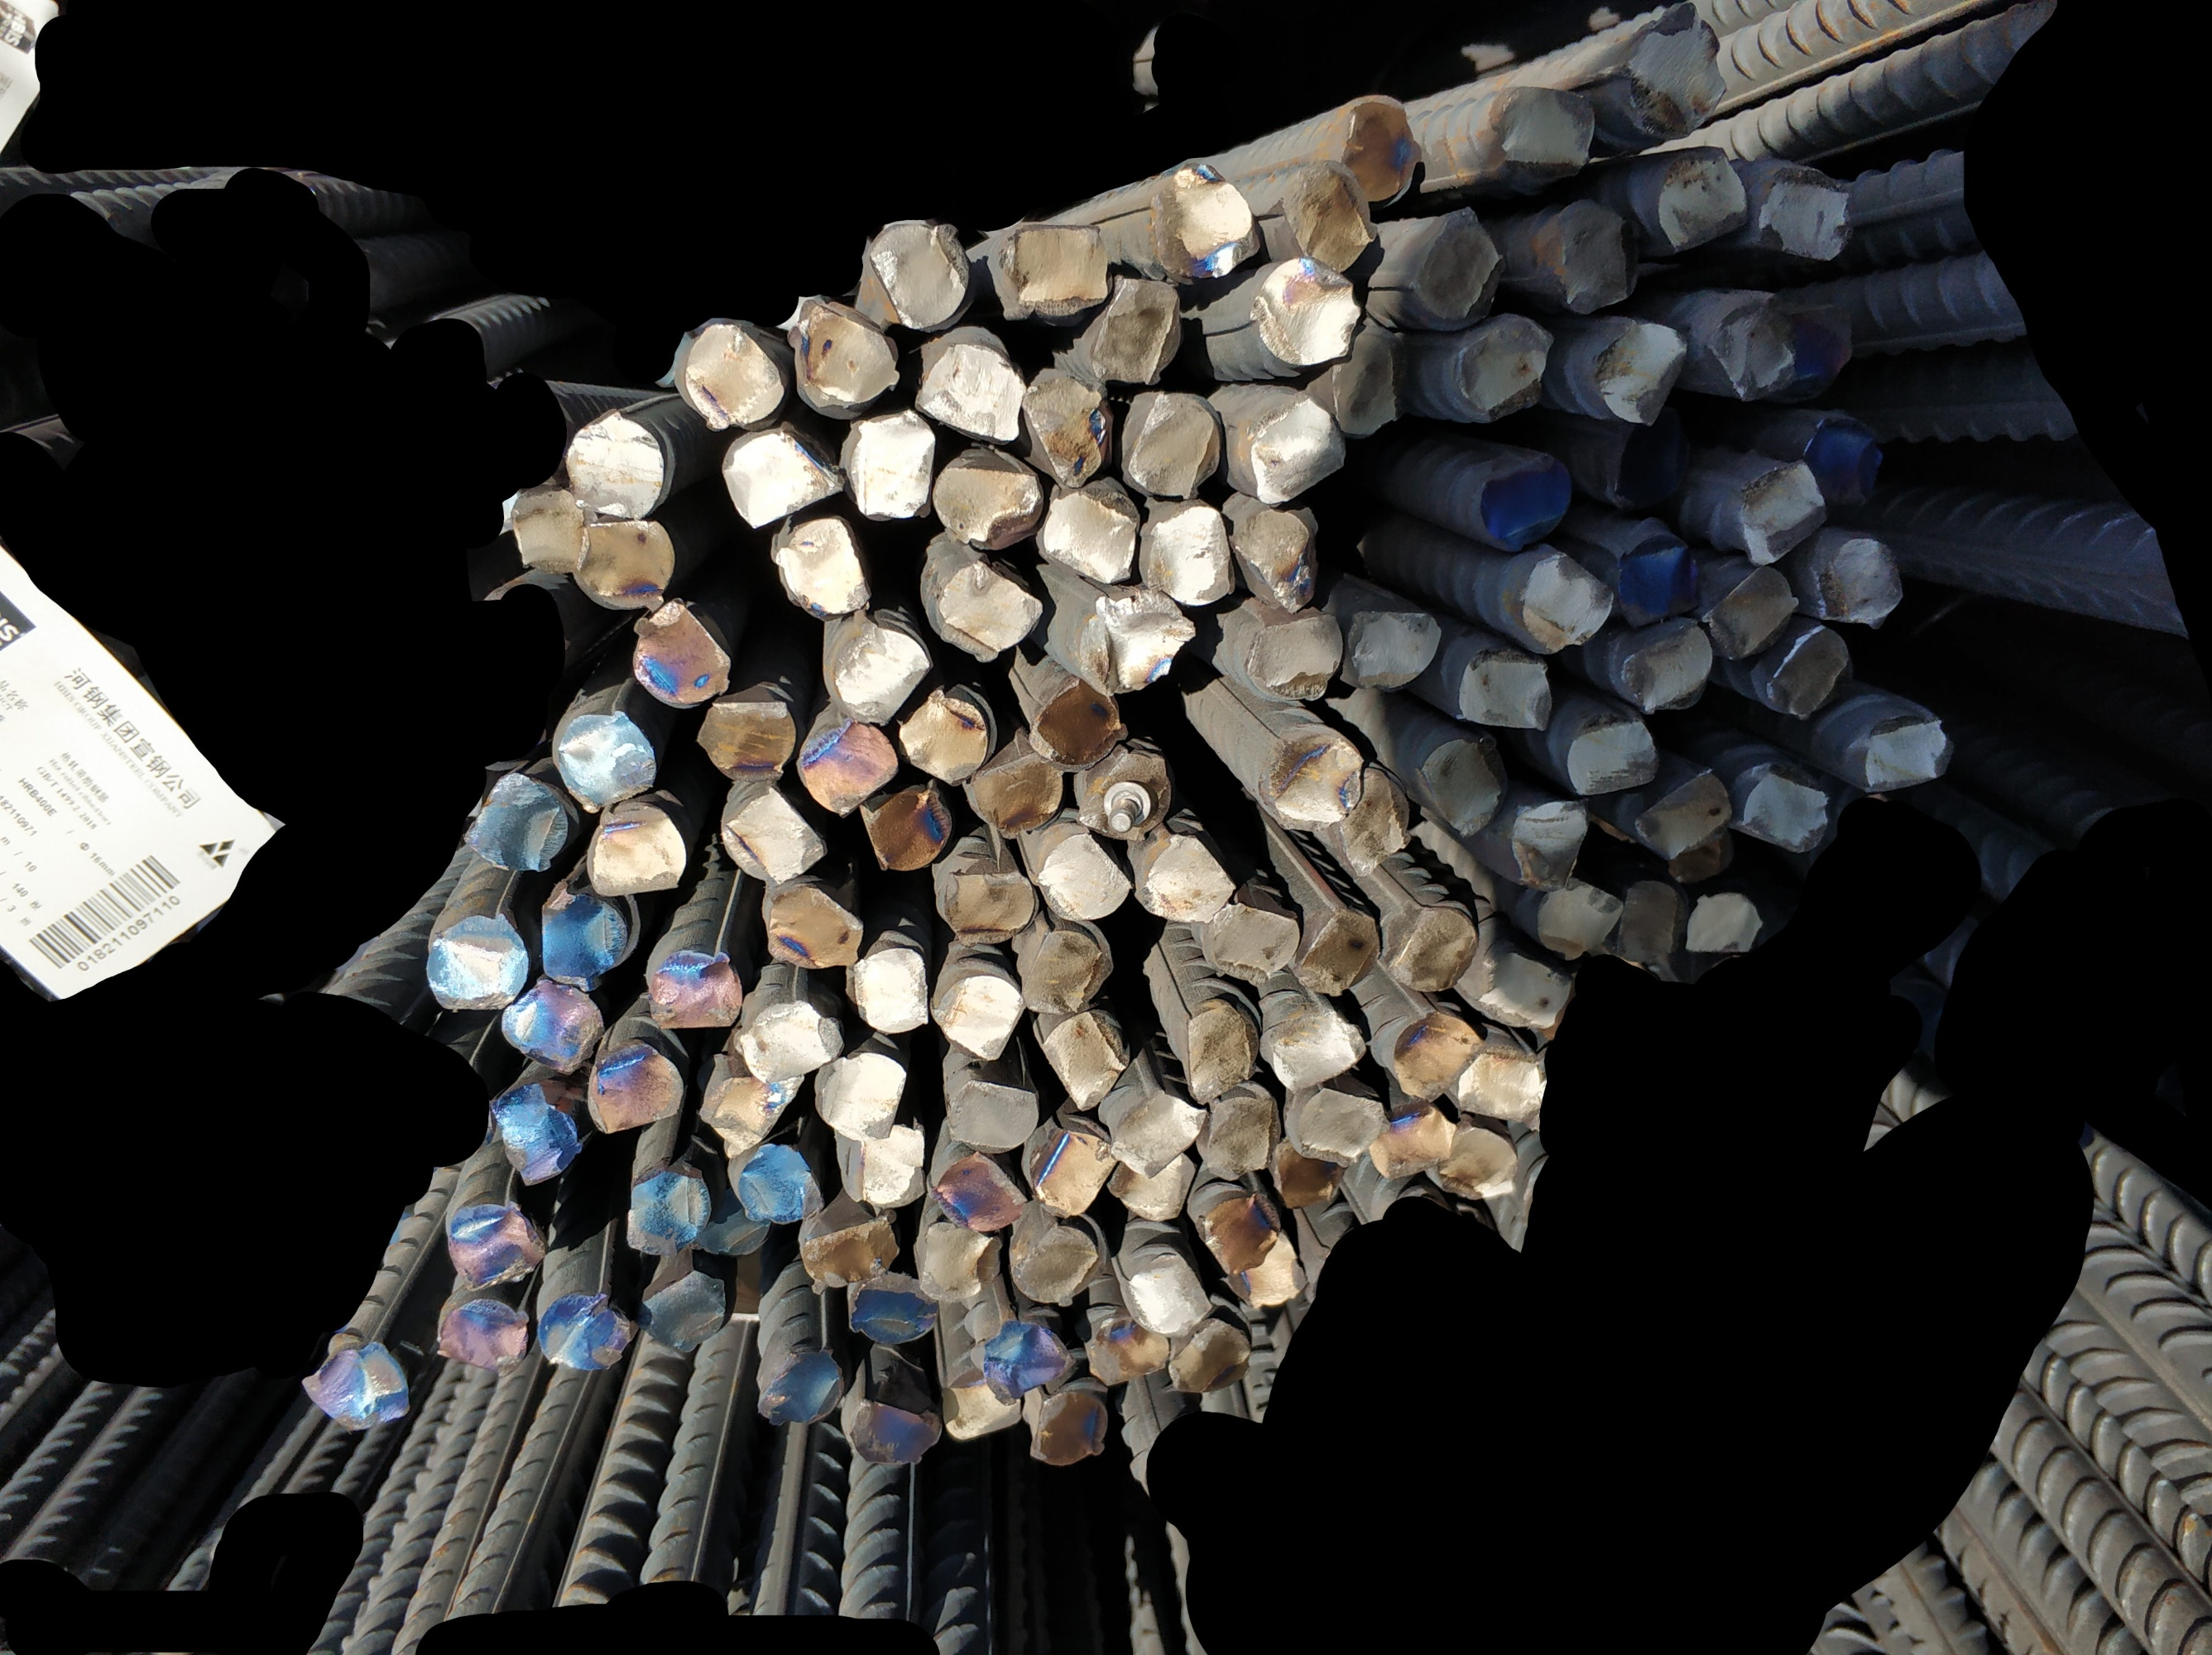rebar: (1619, 0, 1729, 139), (785, 292, 905, 410), (1401, 207, 1510, 336), (1149, 156, 1263, 278), (723, 422, 846, 535), (1251, 256, 1368, 370), (1533, 195, 1640, 318), (864, 209, 971, 330), (820, 608, 933, 723), (1274, 155, 1381, 275), (1079, 584, 1201, 690), (914, 332, 1025, 445), (1241, 389, 1347, 508), (930, 443, 1044, 551), (1654, 136, 1753, 259), (931, 556, 1044, 664), (1037, 476, 1143, 589), (1451, 309, 1555, 424), (996, 221, 1116, 320), (565, 407, 669, 520), (961, 723, 1065, 836), (1260, 723, 1366, 833), (426, 907, 532, 1015), (1470, 449, 1576, 556), (1732, 457, 1835, 568), (1592, 316, 1691, 431), (1088, 269, 1185, 386), (554, 708, 660, 814), (681, 323, 787, 429), (838, 410, 938, 522), (770, 516, 876, 621), (1753, 162, 1858, 268), (499, 975, 610, 1074), (1124, 386, 1223, 497), (1023, 372, 1116, 490), (462, 770, 568, 873), (304, 1335, 414, 1434), (631, 598, 732, 704), (586, 1036, 688, 1139), (799, 715, 898, 821), (1070, 741, 1176, 840), (1795, 414, 1892, 522), (721, 786, 825, 885), (1494, 83, 1600, 181), (1143, 501, 1239, 608), (1519, 551, 1616, 655), (1616, 617, 1717, 716), (1241, 610, 1343, 708), (1029, 673, 1133, 768), (758, 878, 864, 972), (441, 1201, 549, 1293), (1341, 89, 1425, 207), (1708, 294, 1797, 405), (587, 801, 688, 899), (1029, 827, 1131, 923), (1635, 761, 1731, 864), (570, 518, 676, 610), (702, 1064, 808, 1156), (1036, 1008, 1133, 1107), (1023, 1120, 1117, 1222), (1453, 643, 1557, 735), (1237, 501, 1321, 615), (539, 883, 627, 991), (1109, 1085, 1208, 1180), (1411, 737, 1505, 838), (1609, 530, 1703, 631), (492, 1081, 580, 1187), (1597, 422, 1703, 511), (1328, 767, 1413, 876), (898, 683, 992, 782), (860, 779, 961, 871), (1324, 320, 1402, 438), (1856, 720, 1960, 808), (1145, 827, 1241, 923), (737, 998, 846, 1081), (1811, 535, 1908, 629), (1267, 1003, 1368, 1093), (695, 694, 799, 781), (1338, 605, 1442, 690), (1706, 565, 1800, 659), (1387, 901, 1479, 996), (1769, 621, 1856, 721), (799, 1206, 902, 1292), (1182, 998, 1260, 1109), (935, 866, 1041, 947), (511, 485, 603, 579), (1119, 1246, 1215, 1337), (1206, 902, 1301, 993), (815, 1050, 905, 1144), (732, 1140, 827, 1229), (841, 1121, 933, 1212), (535, 1288, 634, 1372), (645, 946, 744, 1029), (978, 1321, 1079, 1403), (1394, 1008, 1482, 1100), (1739, 763, 1828, 855), (627, 1161, 711, 1259), (1025, 923, 1109, 1020), (944, 1078, 1044, 1158), (935, 974, 1025, 1062), (1536, 874, 1626, 963), (1566, 716, 1661, 800), (1508, 796, 1590, 894), (1472, 947, 1571, 1027), (1010, 1219, 1098, 1307), (937, 1151, 1030, 1234), (1103, 1142, 1197, 1226), (1453, 1040, 1546, 1123), (436, 1295, 532, 1377), (758, 1344, 846, 1431), (1291, 1087, 1387, 1166), (1295, 906, 1376, 998), (641, 1264, 728, 1349), (916, 1219, 1003, 1304), (1199, 1093, 1282, 1180), (1439, 1118, 1522, 1205), (850, 944, 931, 1033), (846, 1396, 949, 1466), (1371, 1097, 1454, 1182), (846, 1273, 940, 1347), (1197, 1191, 1282, 1273), (1260, 1135, 1352, 1210), (1171, 1318, 1255, 1399), (1781, 296, 1852, 391), (1083, 1313, 1175, 1384), (1027, 1387, 1109, 1467), (1235, 1227, 1314, 1311), (1616, 878, 1685, 968), (699, 1184, 777, 1264), (1684, 890, 1764, 960), (935, 1379, 1023, 1441)
